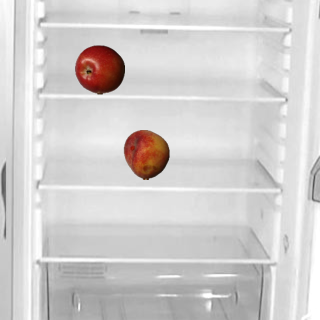Apple Braeburn: (74, 44, 124, 94)
Peach: (121, 129, 171, 179)
